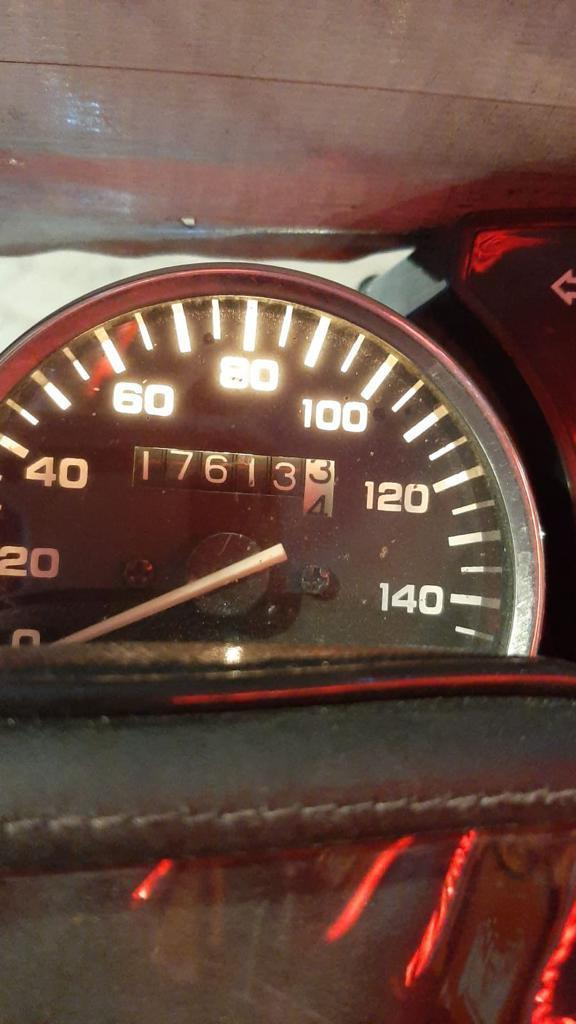1: (240, 454, 261, 489), (139, 448, 153, 483)
3: (269, 459, 298, 492), (305, 456, 333, 486)
4: (303, 491, 329, 518)
6: (202, 451, 229, 485)
7: (167, 447, 195, 483)
odometer: (129, 444, 335, 519)
